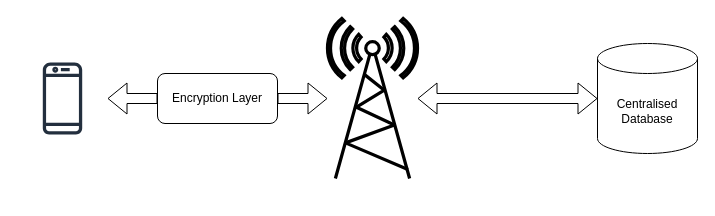
This 715x216 diagram has some shape labels left out. The shapes that lost their labels are listed below. From the top down, each one's centre as x and y in pixels, then its label:
the point at 62,98: Mobile client
the point at 372,98: Tower
